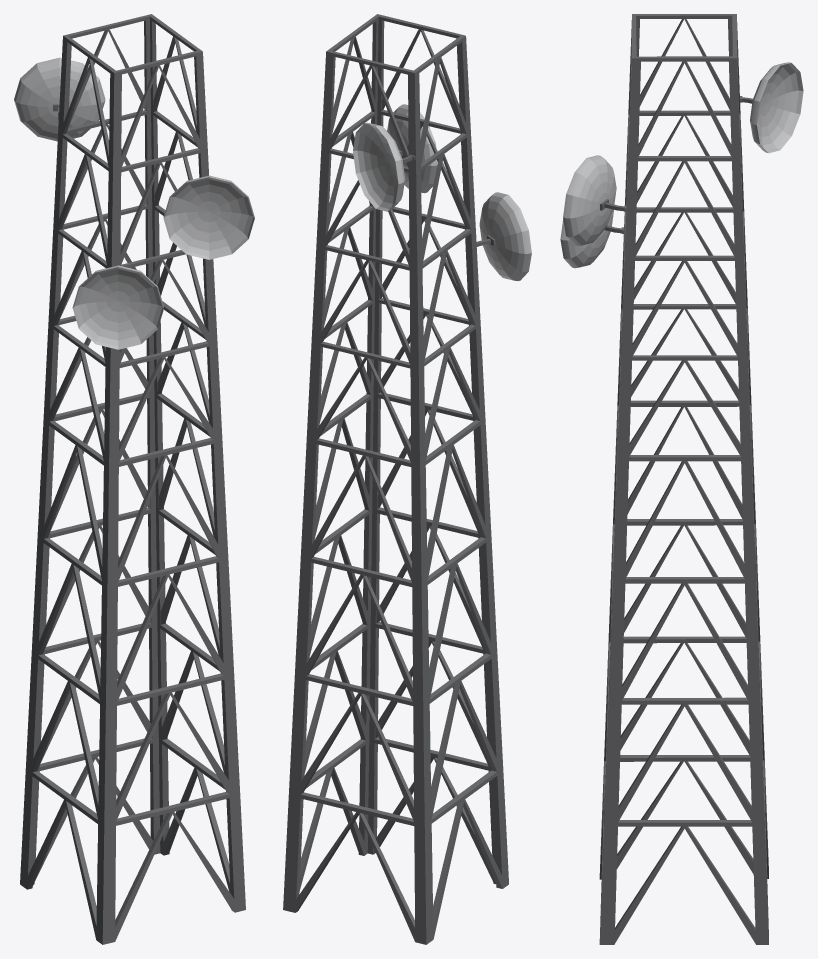
File: Antenna Tower 1.fbx
3 views of the same model, side by side, from view 1: azimuth 30°, elevation 25°; view 2: azimuth 150°, elevation 25°; view 3: azimuth 270°, elevation 25° (orthographic). The views are drawn at different scales.
Visible parts, largest first — view 1: Antenna_Tower2; view 2: Antenna_Tower2; view 3: Antenna_Tower2.
Part boxes in pixels (x1,y1,x2,y2): Antenna_Tower2: (14,14,254,944); Antenna_Tower2: (283,14,531,944); Antenna_Tower2: (560,14,803,944).
Bounding box in the file's own units: 161 × 773 × 195.
